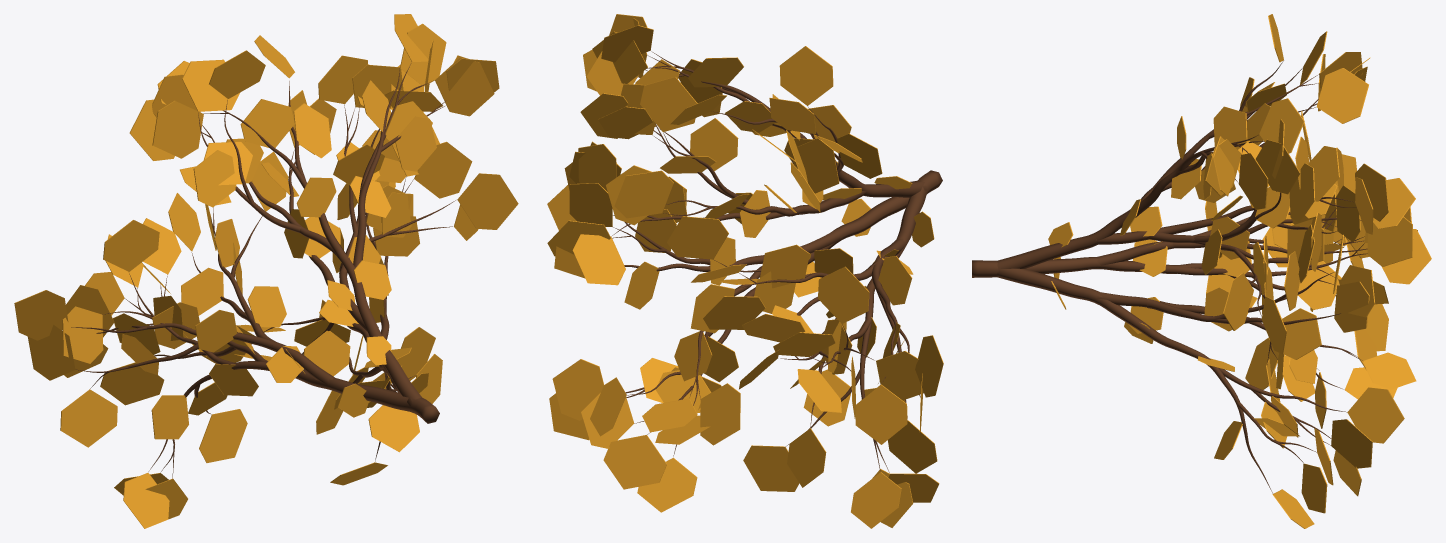
File: TreeTest.fbx
The picture shows the model from 3 angles, left to right: view 1: azimuth 30°, elevation 25°; view 2: azimuth 150°, elevation 25°; view 3: azimuth 270°, elevation 25°; orthographic projection. The views are drawn at different scales.
Parts seen in each view (by area): view 1: leaves; view 2: leaves; view 3: leaves.
Boxes of the visible parts, x1,y1,x2,y2 form: leaves: (14, 14, 518, 528); leaves: (547, 14, 943, 528); leaves: (972, 14, 1431, 528).
Bounding box in the file's own units: 828 × 874 × 805.
